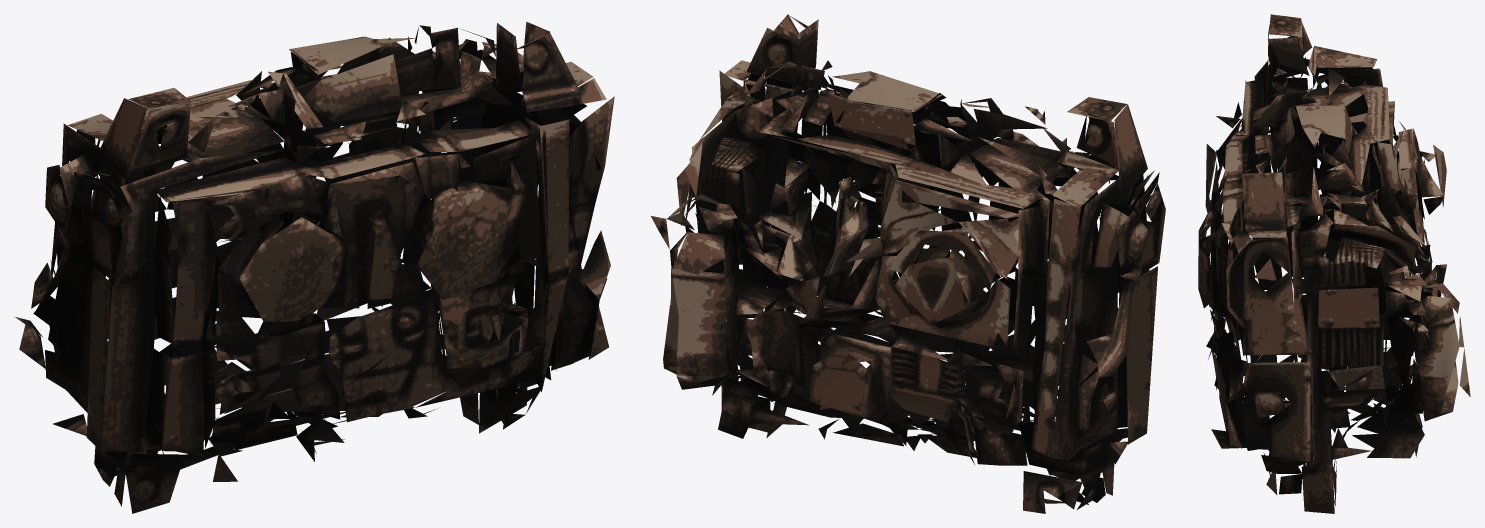
Rendered from mo_bypass.glb.
The picture shows the model from 3 angles, left to right: view 1: azimuth 30°, elevation 25°; view 2: azimuth 150°, elevation 25°; view 3: azimuth 270°, elevation 25°; orthographic projection. The views are drawn at different scales.
Parts seen in each view (by area): view 1: mo_bypass; view 2: mo_bypass; view 3: mo_bypass.
Boxes of the visible parts, box(x1,y1,x2,y2) form: mo_bypass: box(15, 21, 614, 513); mo_bypass: box(651, 14, 1165, 513); mo_bypass: box(1198, 14, 1470, 513).
Size of the model in its own units: 0.2 by 0.1625 by 0.1168.
1 material, 1 textured.
